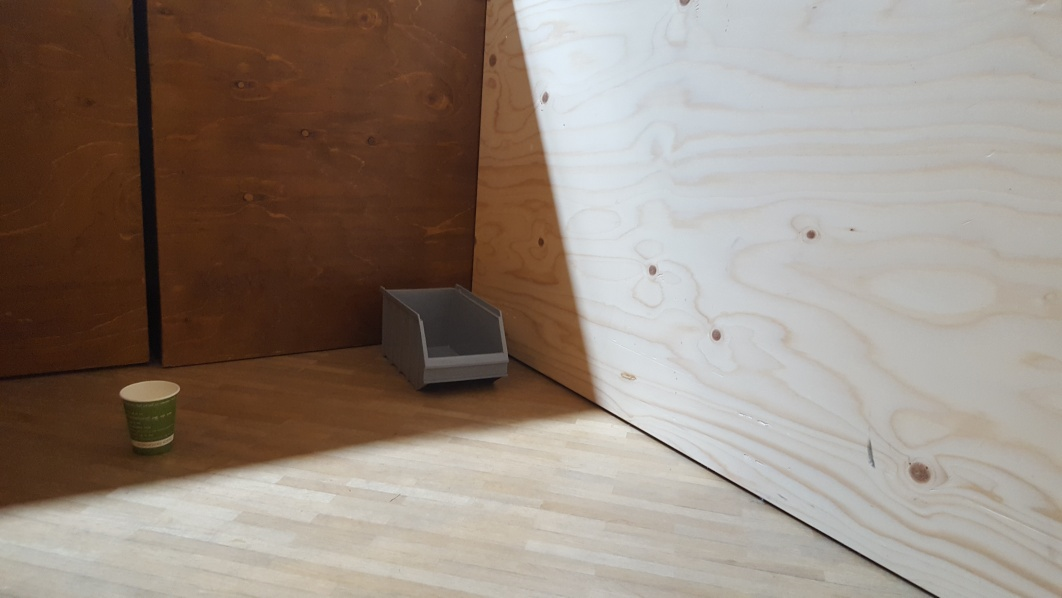cup: (119, 377, 182, 455)
tray: (377, 279, 515, 392)
